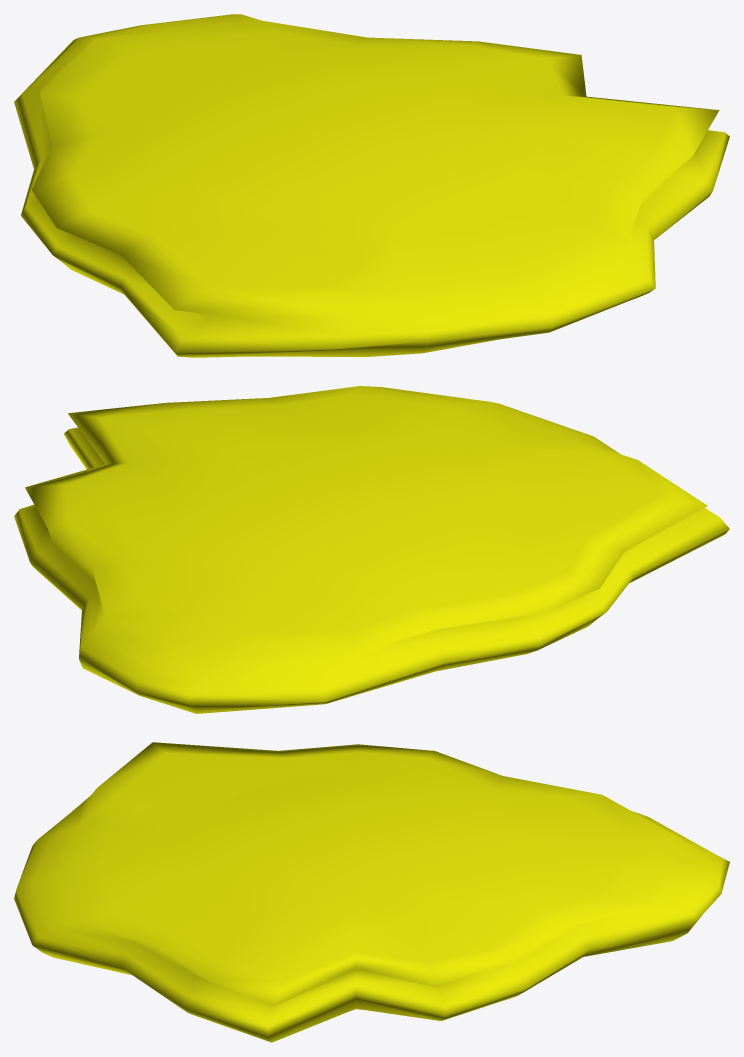
File: Blob Animation Yellow.fbx
The picture shows the model from 3 angles, top to bottom: view 1: azimuth 30°, elevation 25°; view 2: azimuth 150°, elevation 25°; view 3: azimuth 270°, elevation 25°; orthographic projection. The views are drawn at different scales.
Visible parts, largest first — view 1: pSphere4; view 2: pSphere4; view 3: pSphere4.
Boxes of the visible parts, x1=… form: pSphere4: x1=14, y1=14, x2=729, y2=357; pSphere4: x1=14, y1=386, x2=729, y2=713; pSphere4: x1=14, y1=742, x2=729, y2=1042.
Bounding box in the file's own units: 6.88 × 1.22 × 7.66.
